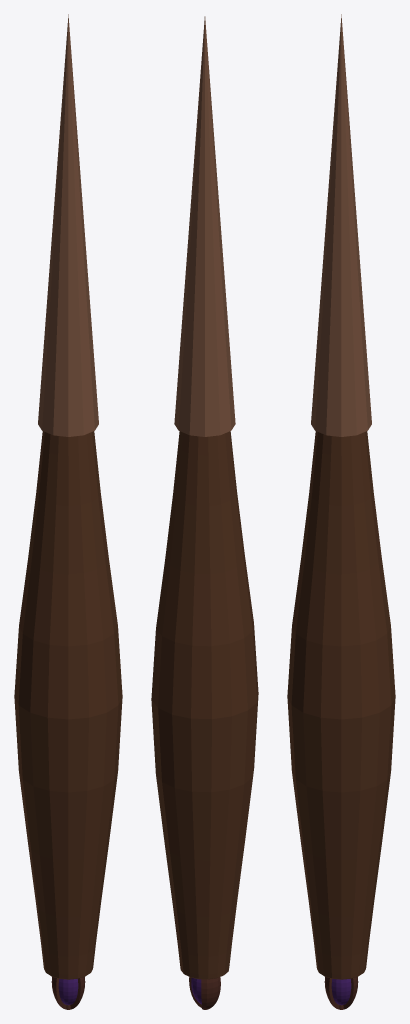
The model's file is Wand 127.glb.
3 renders of one model, left to right at view 1: azimuth 90°, elevation 25°; view 2: azimuth 210°, elevation 25°; view 3: azimuth 270°, elevation 25°, orthographic.
Visible parts, largest first — view 1: GeneratedWand; view 2: GeneratedWand; view 3: GeneratedWand.
Part boxes in pixels (box(x1,y1,x2,y2)): GeneratedWand: box(14, 14, 122, 1009); GeneratedWand: box(151, 16, 258, 1009); GeneratedWand: box(287, 14, 395, 1009).
Size of the model in its own units: 0.0499 by 0.5058 by 0.0499.
